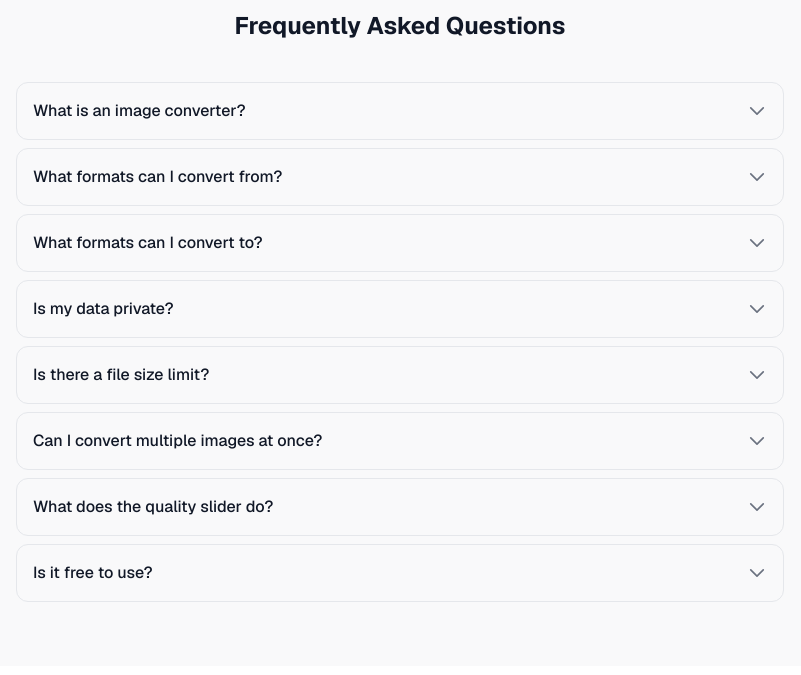
Scenario: ConverterFAQ › collapses answer on second click
Click the button "What is an image converter?". click: (139, 110)
box: left=17, top=83, right=783, bottom=139
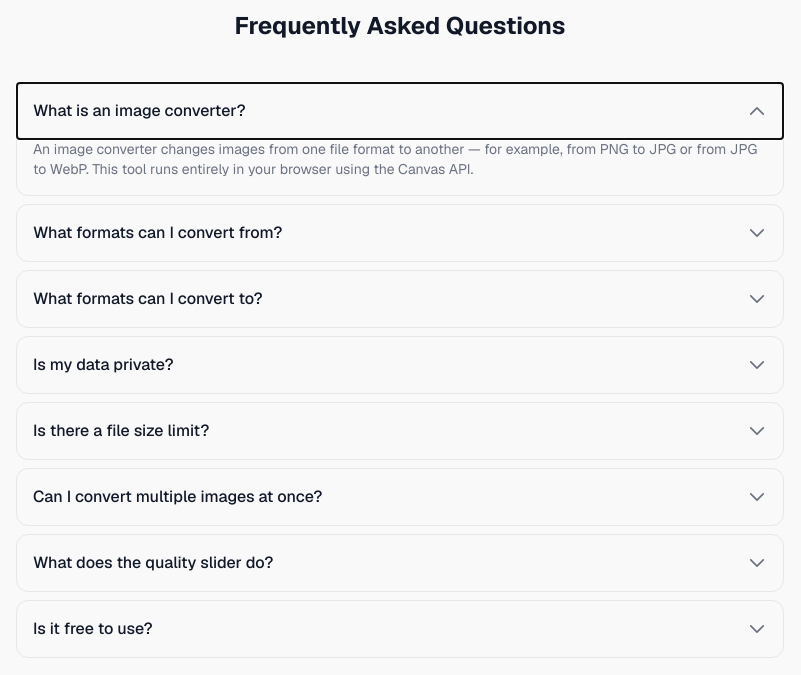
Result: the text "changes images from one file format" is shown at left=33, top=140, right=757, bottom=178
Click the button "What is an image converter?". click: (139, 110)
box: left=17, top=83, right=783, bottom=139
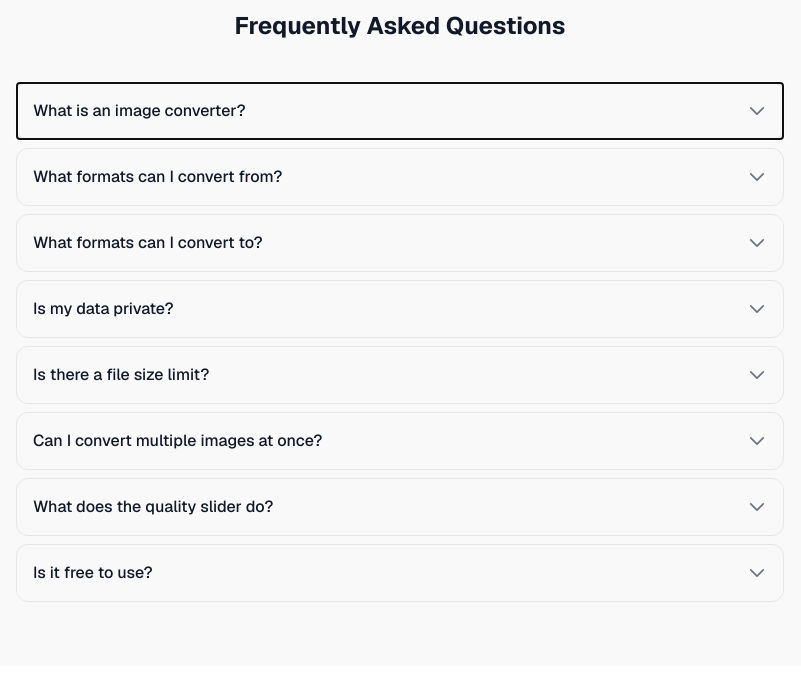
Result: the text "changes images from one file format" is gone
